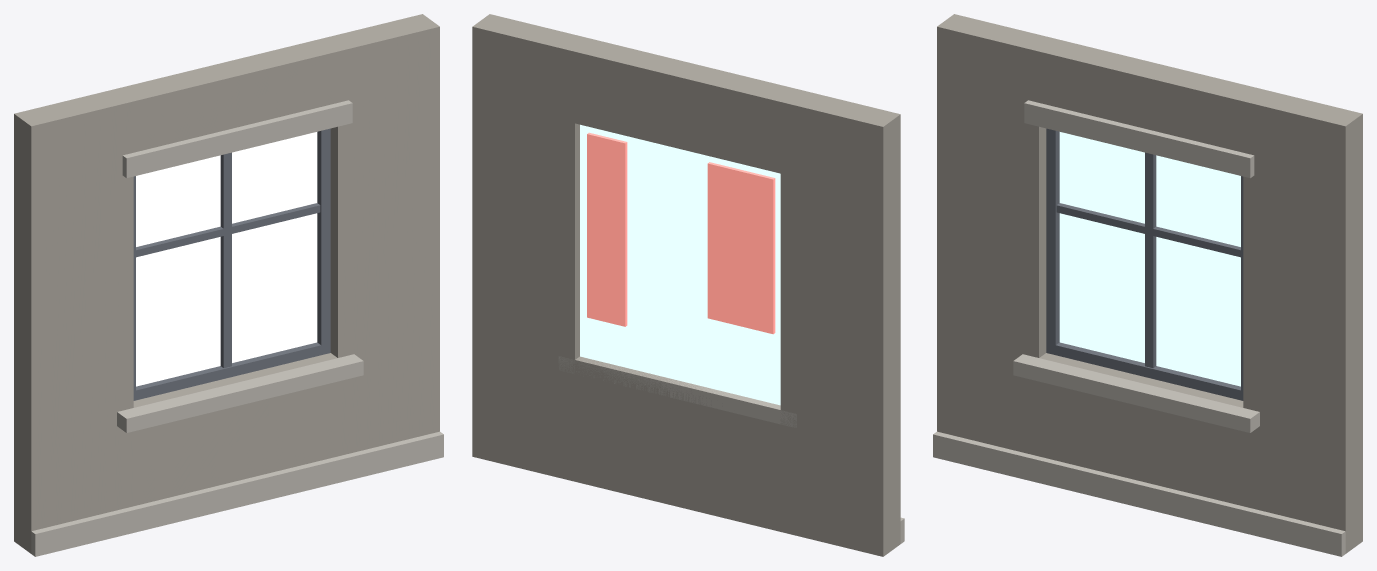
The model's file is wall_window_tv.glb.
The picture shows the model from 3 angles, left to right: view 1: azimuth 30°, elevation 25°; view 2: azimuth 150°, elevation 25°; view 3: azimuth 330°, elevation 25°; orthographic projection.
Visible parts, largest first — view 1: wall_window_tv; view 2: wall_window_tv; view 3: wall_window_tv.
Boxes of the visible parts, x1,y1,x2,y2 form: wall_window_tv: (14,14,443,556); wall_window_tv: (472,14,904,556); wall_window_tv: (933,14,1362,556).
Bounding box in the file's own units: 3 × 3 × 0.34.
